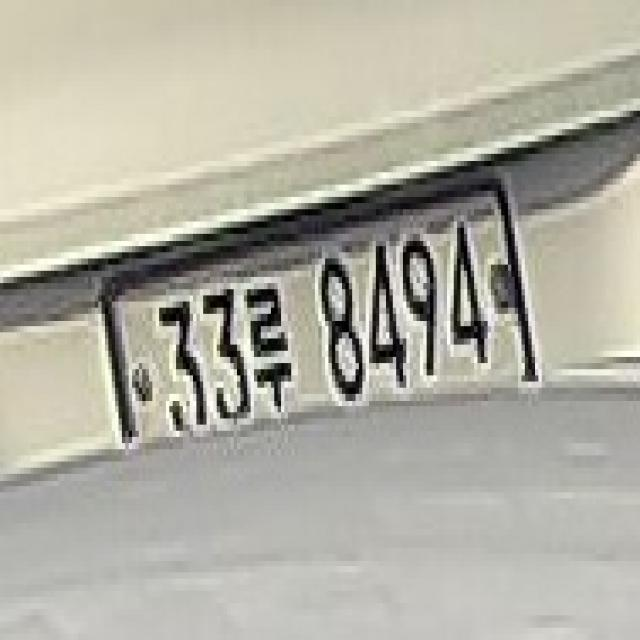3: (200, 283, 250, 431), (159, 295, 207, 437)
4: (362, 240, 410, 382), (444, 222, 491, 363)
8: (312, 246, 366, 406)
9: (399, 228, 444, 382)
license_plate: (101, 184, 532, 462)
lu: (240, 283, 294, 412)
